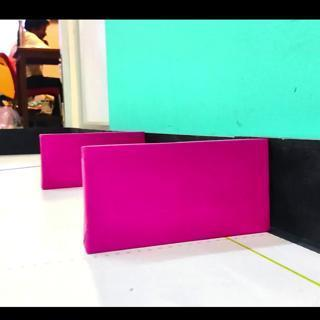xparking: (87, 149, 269, 256), (41, 134, 82, 190)
